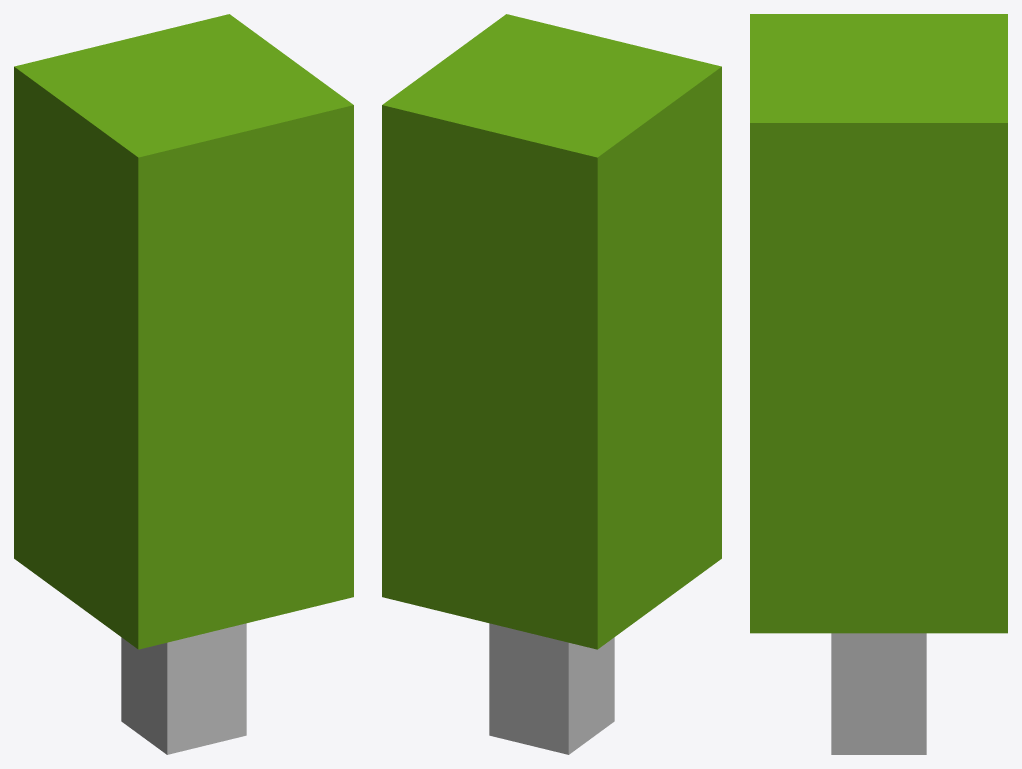
Rendered from tree_2.fbx.
The picture shows the model from 3 angles, left to right: view 1: azimuth 30°, elevation 25°; view 2: azimuth 150°, elevation 25°; view 3: azimuth 270°, elevation 25°; orthographic projection. The views are drawn at different scales.
Parts seen in each view (by area): view 1: Cube.010; view 2: Cube.010; view 3: Cube.010.
Part boxes in pixels (x1,y1,x2,y2): Cube.010: [14, 14, 353, 754]; Cube.010: [382, 14, 721, 754]; Cube.010: [750, 14, 1007, 754].
Bounding box in the file's own units: 49.23 × 140 × 49.23.
